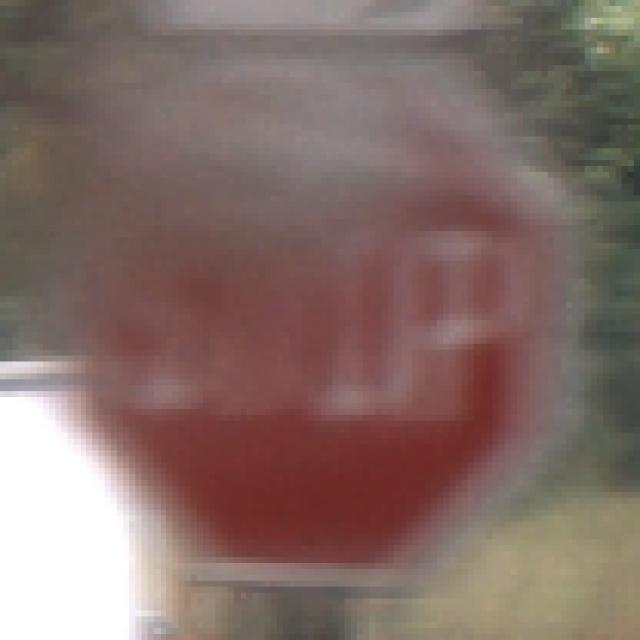STOP: (63, 54, 586, 588)
